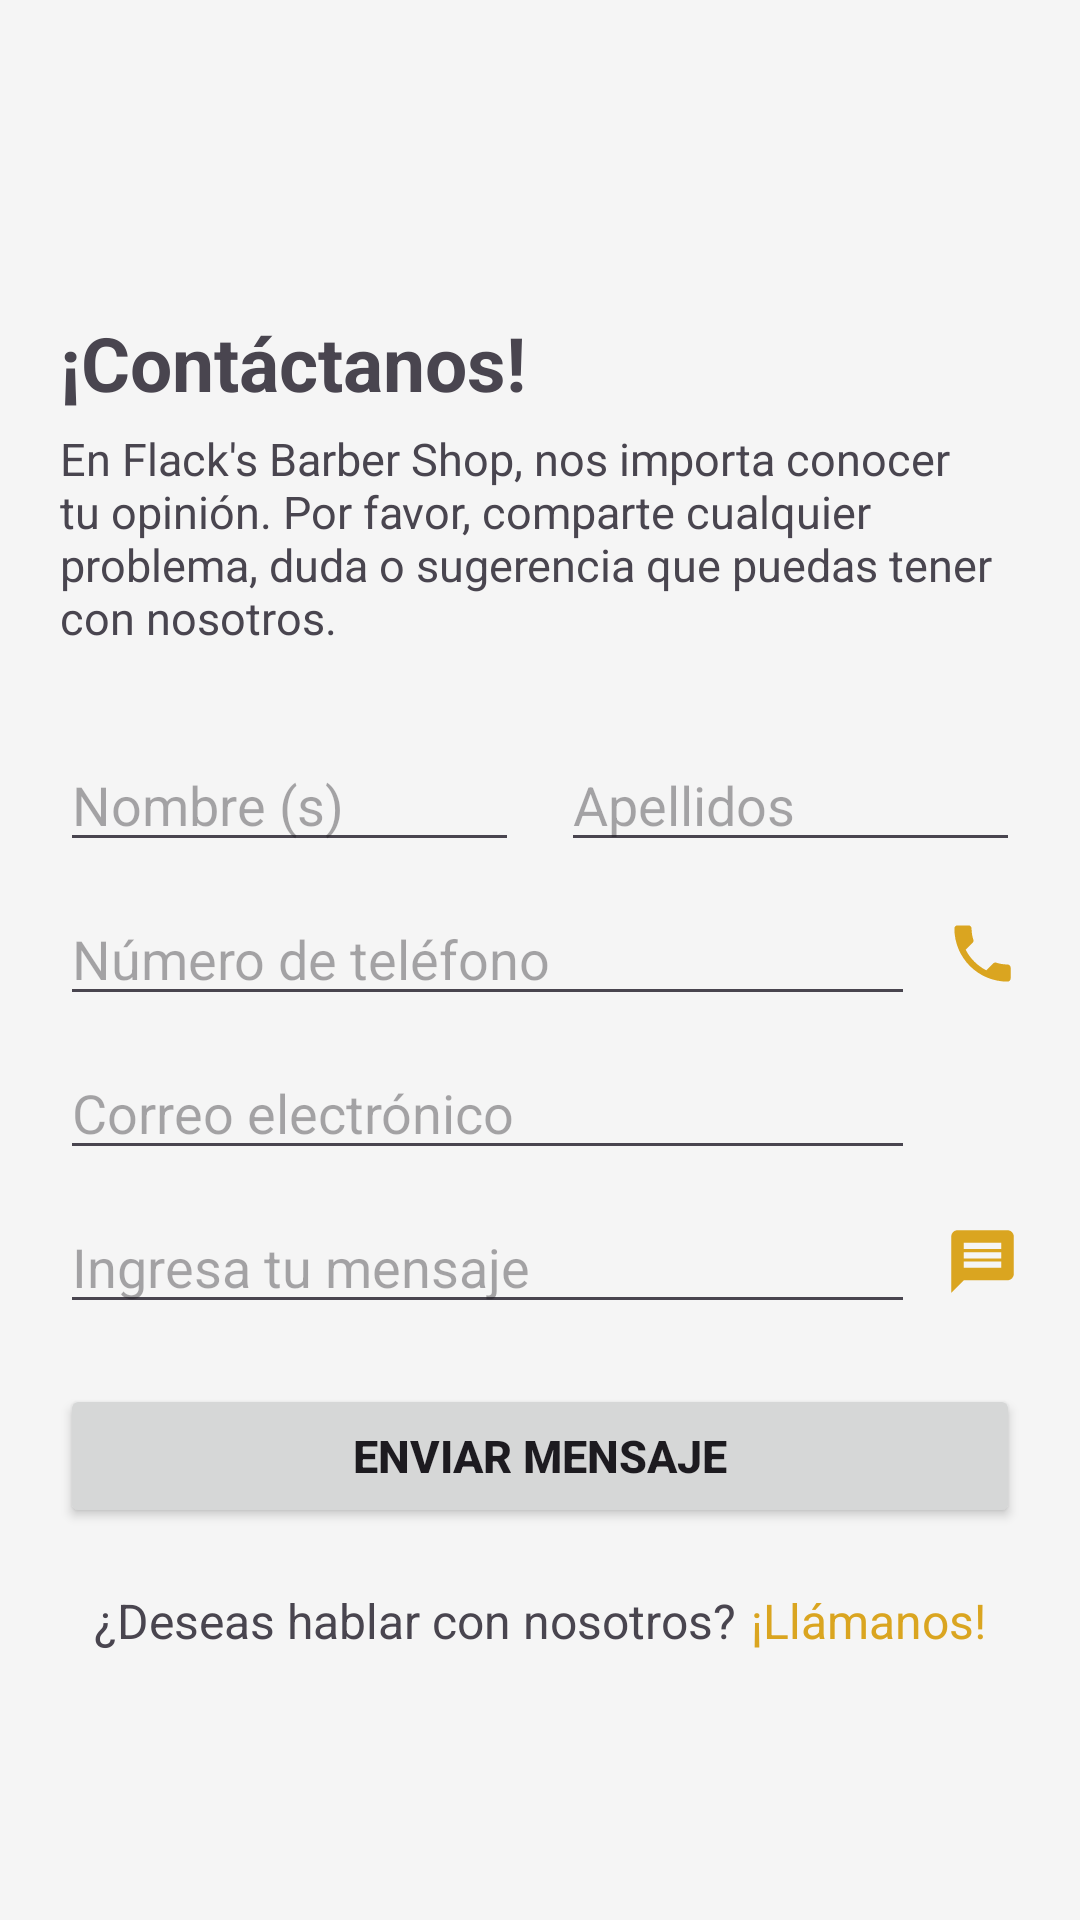

Icons on this 1080×1920 Android screen, each with its box as (x1, y1, x2, y2):
message: (951, 1230, 1014, 1293)
phone: (954, 925, 1011, 982)
